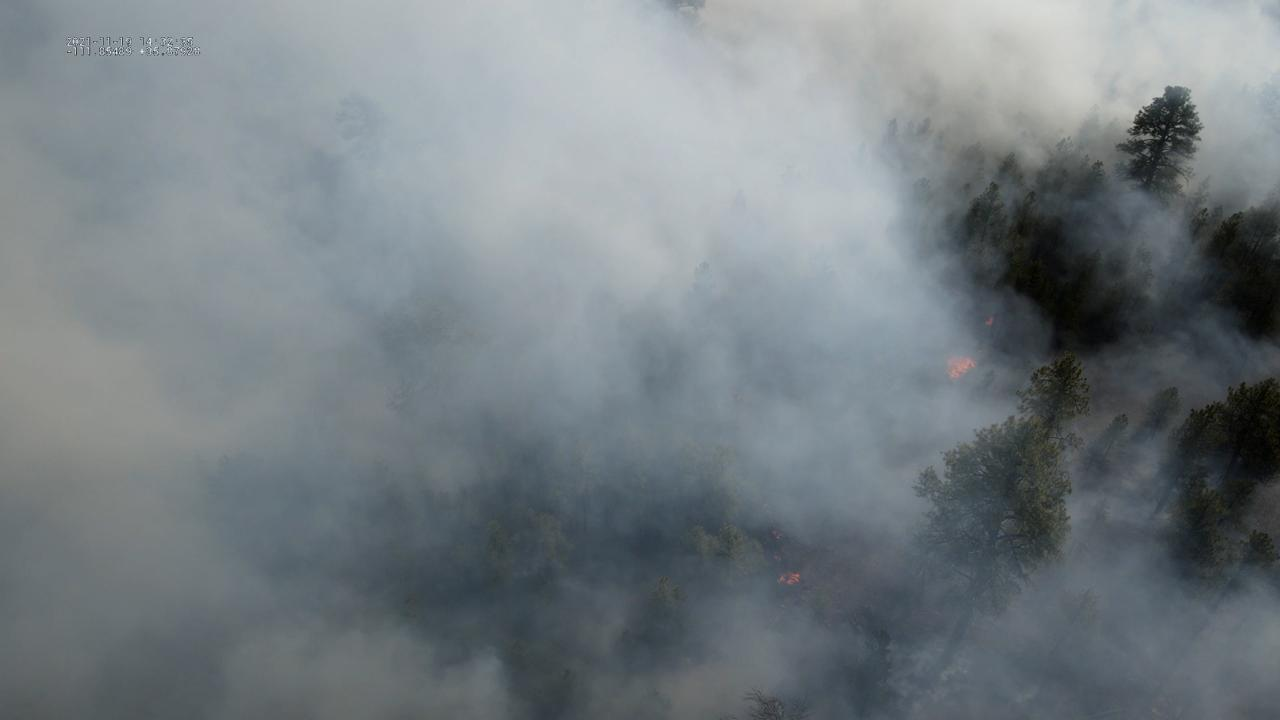fire: (941, 353, 976, 381), (777, 571, 802, 586), (981, 317, 996, 328), (770, 529, 783, 541)
smoke: (0, 0, 1280, 720)
